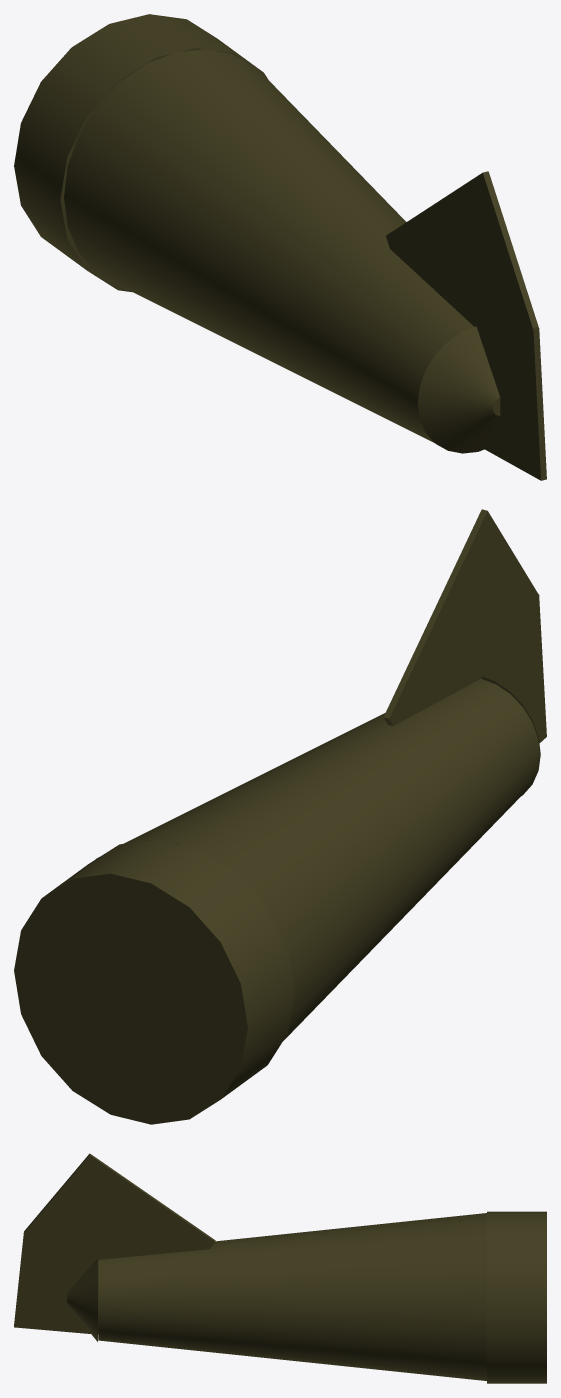
File: debris16.fbx
3 views of the same model, one above another, from view 1: azimuth 30°, elevation 25°; view 2: azimuth 150°, elevation 25°; view 3: azimuth 270°, elevation 25° (orthographic). The views are drawn at different scales.
Visible parts, largest first — view 1: Cone01, Cylinder04, Box01, Box03, Cone03; view 2: Cylinder04, Cone01, Box01, Box03; view 3: Cone01, Box01, Cylinder04, Box03, Cone03.
Boxes of the visible parts, bbox=[...] form: Cone01: bbox=[64, 49, 473, 442]; Cylinder04: bbox=[14, 14, 268, 292]; Box01: bbox=[386, 171, 538, 357]; Box03: bbox=[414, 263, 546, 480]; Cone03: bbox=[418, 326, 500, 453]; Cylinder04: bbox=[14, 839, 294, 1124]; Cone01: bbox=[95, 679, 539, 1040]; Box01: bbox=[383, 509, 538, 725]; Box03: bbox=[419, 594, 546, 743]; Cone01: bbox=[98, 1213, 486, 1380]; Box01: bbox=[24, 1153, 215, 1272]; Cylinder04: bbox=[487, 1211, 546, 1383]; Box03: bbox=[14, 1231, 177, 1334]; Cone03: bbox=[67, 1258, 97, 1341].
Bounding box in the file's own units: 244 × 345 × 752.
